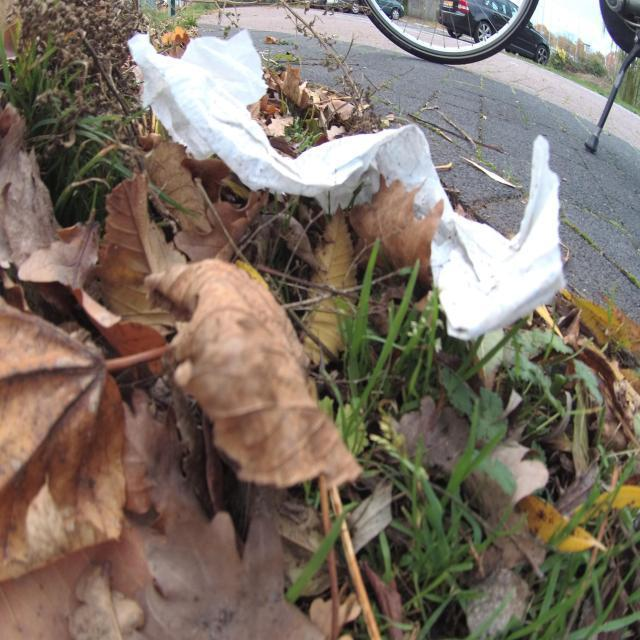Paper: (124, 27, 572, 343)
